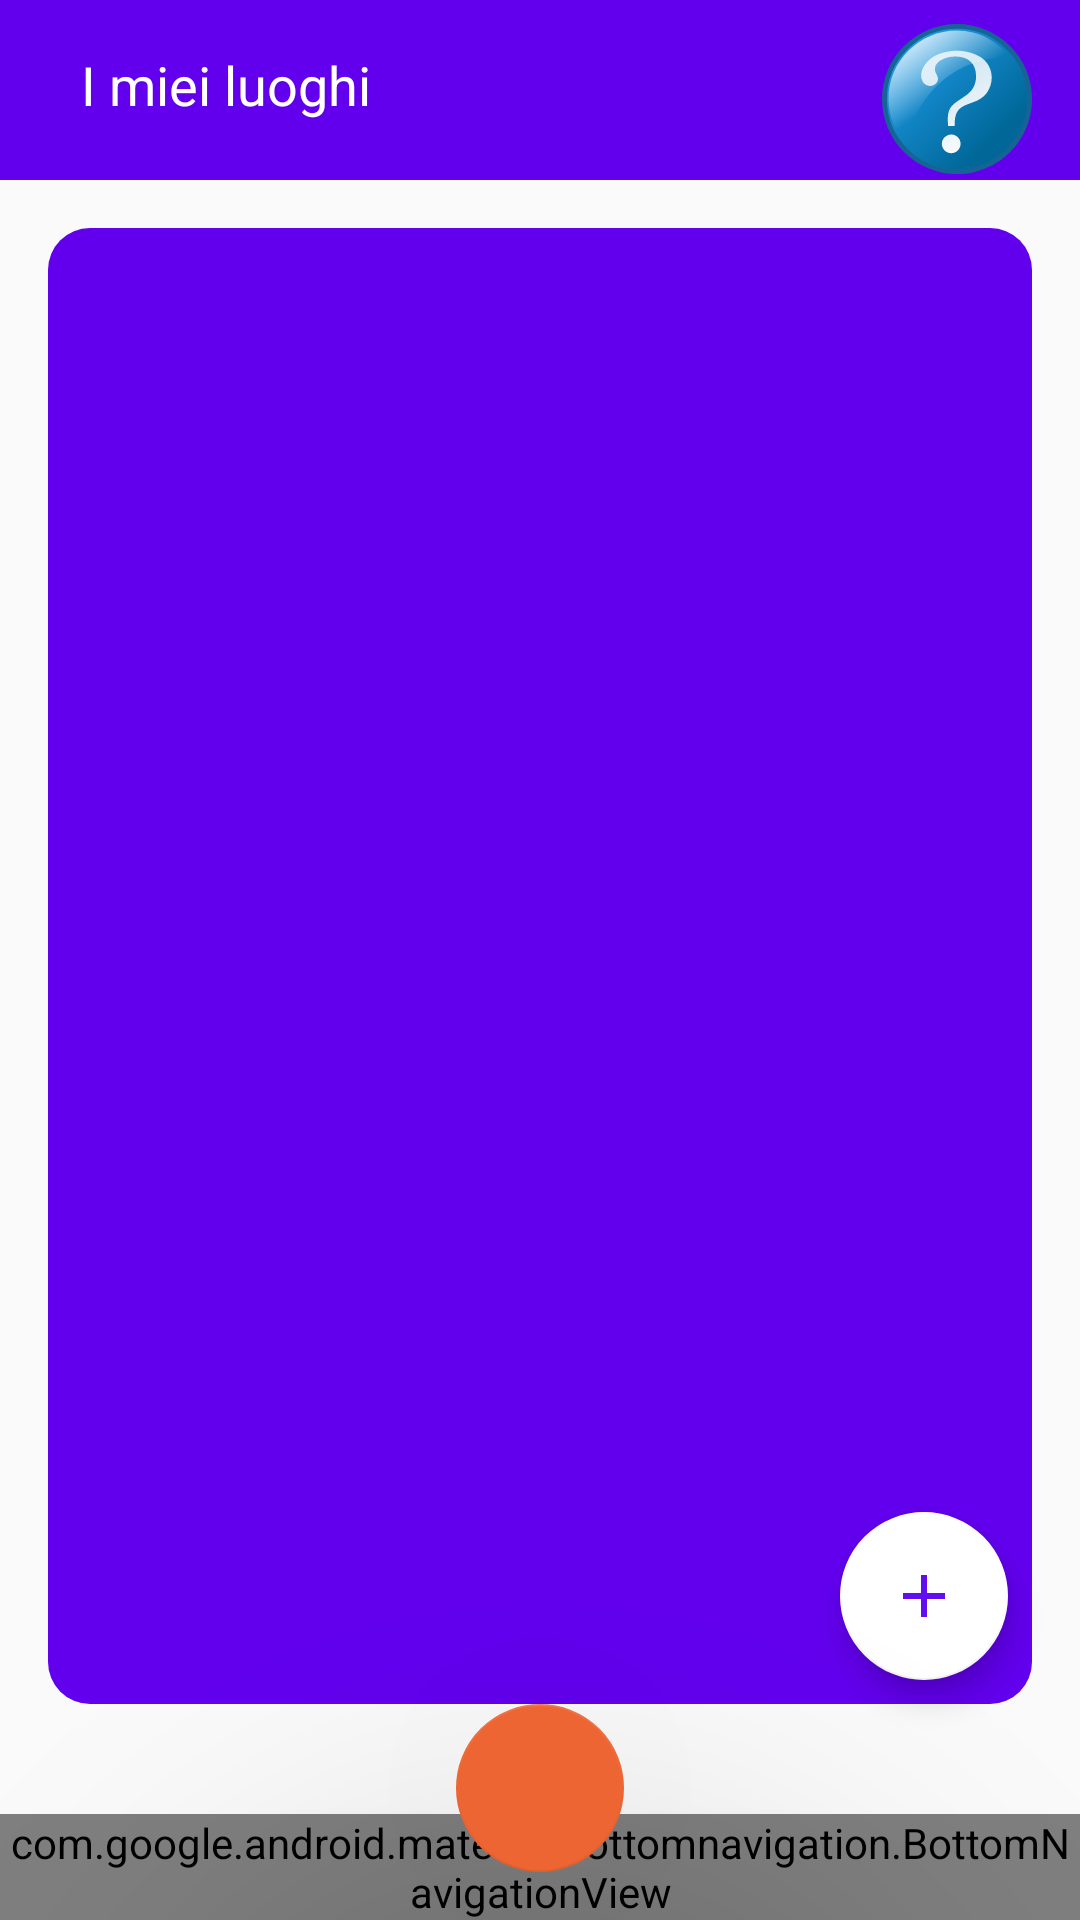

Locate icon controls on the screen. Image size 1080*1920, boxes as (x1, y1, x2, y2).
add: (840, 1512, 1008, 1680)
